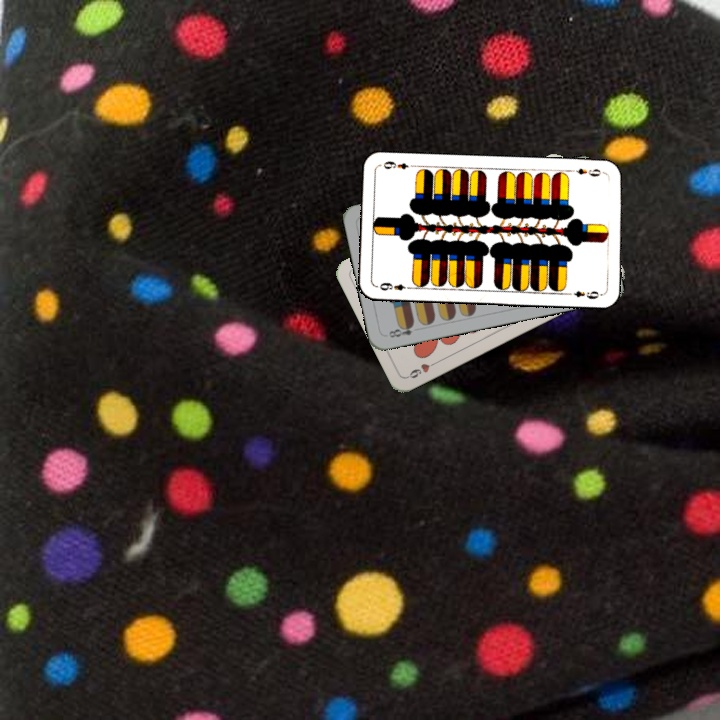E8: (385, 319, 417, 340)
E9: (376, 278, 414, 293), (572, 165, 607, 179)
H9: (403, 356, 441, 381)
